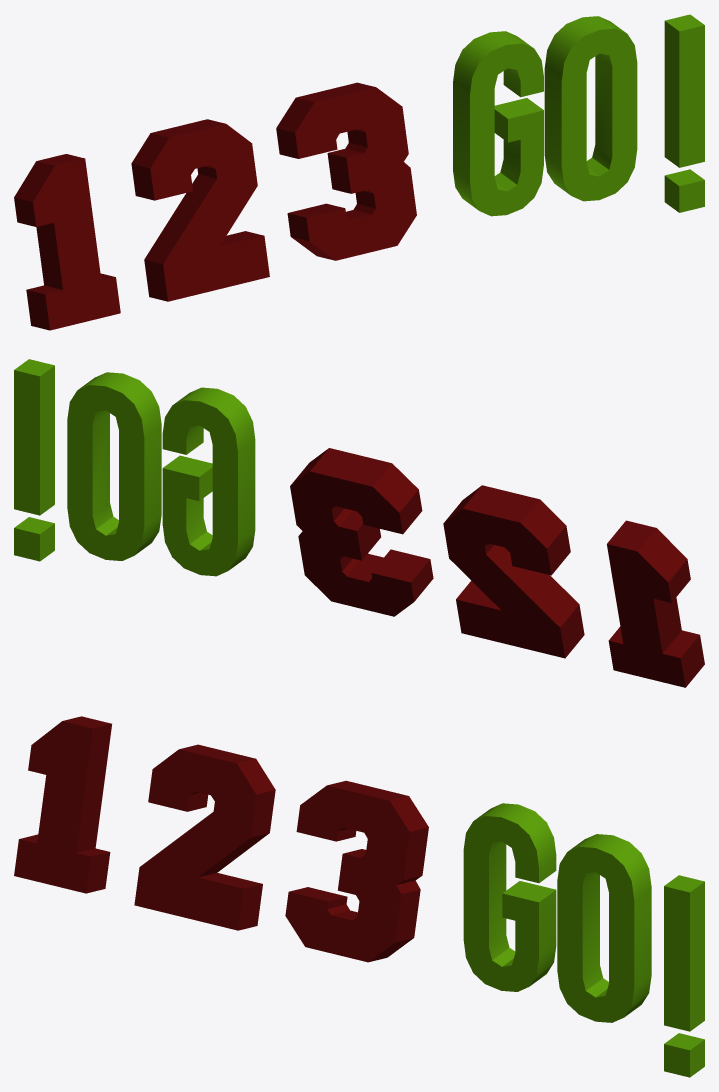
File: starting numbers & go.fbx
The picture shows the model from 3 angles, top to bottom: view 1: azimuth 30°, elevation 25°; view 2: azimuth 150°, elevation 25°; view 3: azimuth 330°, elevation 25°; orthographic projection.
Visible parts, largest first — view 1: two, three, oo, gg, one, mark; view 2: two, three, oo, gg, one, mark; view 3: three, two, oo, gg, one, mark.
Part boxes in pixels (bbox=[...]): two: bbox=[131, 119, 269, 301]; three: bbox=[276, 82, 416, 260]; oo: bbox=[544, 16, 637, 201]; gg: bbox=[453, 31, 543, 216]; one: bbox=[14, 154, 120, 330]; mark: bbox=[664, 14, 704, 212]; two: bbox=[443, 485, 584, 658]; three: bbox=[290, 448, 433, 616]; oo: bbox=[67, 372, 161, 560]; gg: bbox=[162, 387, 255, 576]; one: bbox=[607, 520, 704, 687]; mark: bbox=[14, 359, 54, 561]; three: bbox=[285, 780, 428, 962]; two: bbox=[134, 744, 275, 930]; oo: bbox=[557, 834, 651, 1022]; gg: bbox=[463, 803, 556, 991]; one: bbox=[14, 716, 111, 893]; mark: bbox=[664, 875, 704, 1077].
Size of the model in its own units: 5.87 by 1.74 by 0.6186.
